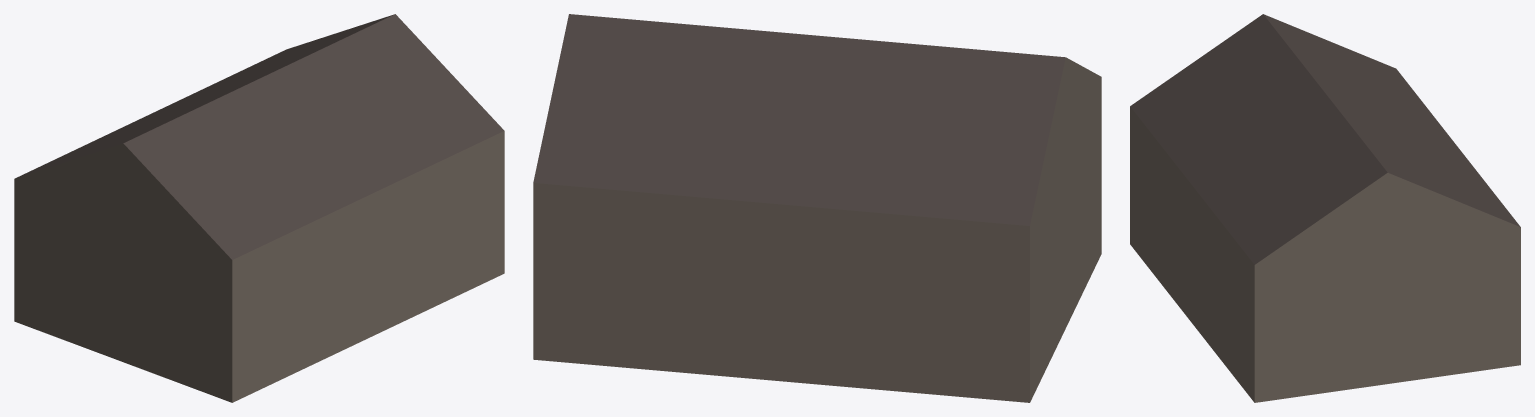
The picture shows the model from 3 angles, left to right: view 1: azimuth 30°, elevation 25°; view 2: azimuth 150°, elevation 25°; view 3: azimuth 270°, elevation 25°; orthographic projection. The views are drawn at different scales.
Parts seen in each view (by area): view 1: HP-w435934421; view 2: HP-w435934421; view 3: HP-w435934421.
Boxes of the visible parts, x1,y1,x2,y2 form: HP-w435934421: (14, 14, 504, 402); HP-w435934421: (533, 14, 1101, 402); HP-w435934421: (1130, 14, 1520, 402).
Bounding box in the file's own units: 18.32 × 9.2 × 15.41.
